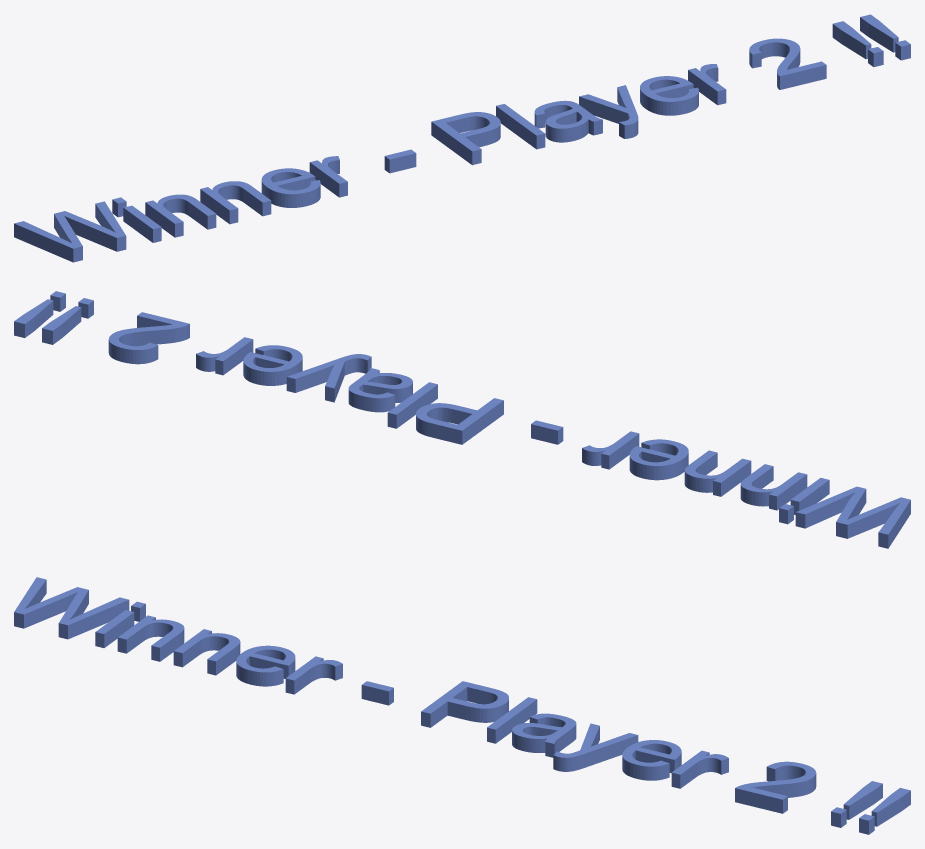
The model's file is p2-win.obj.
The picture shows the model from 3 angles, top to bottom: view 1: azimuth 30°, elevation 25°; view 2: azimuth 150°, elevation 25°; view 3: azimuth 330°, elevation 25°; orthographic projection. The views are drawn at different scales.
Parts seen in each view (by area): view 1: TextPlus002; view 2: TextPlus002; view 3: TextPlus002.
Boxes of the visible parts, x1=… form: TextPlus002: x1=14, y1=14, x2=910, y2=262; TextPlus002: x1=14, y1=291, x2=910, y2=548; TextPlus002: x1=14, y1=577, x2=910, y2=834.
Size of the model in its own units: 195 by 3 by 20.8.
